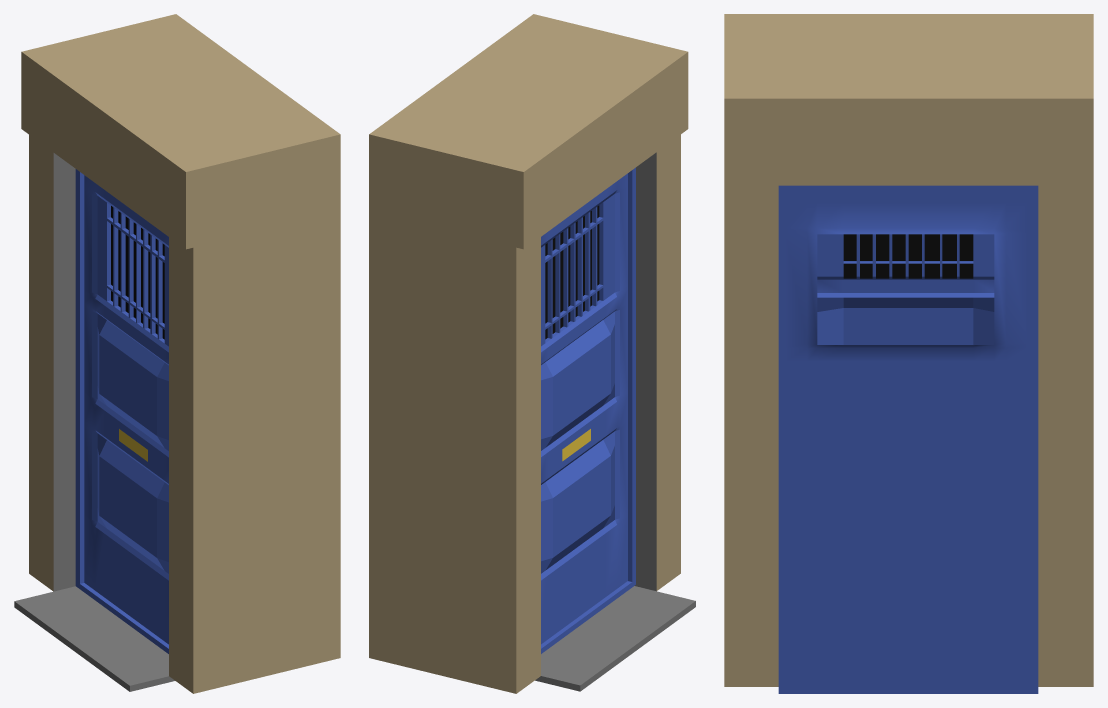
The model's file is SingleDoor2.fbx.
3 views of the same model, side by side, from view 1: azimuth 30°, elevation 25°; view 2: azimuth 150°, elevation 25°; view 3: azimuth 270°, elevation 25° (orthographic). The views are drawn at different scales.
Parts seen in each view (by area): view 1: SingleDoor002; view 2: SingleDoor002; view 3: SingleDoor002.
Boxes of the visible parts, x1,y1,x2,y2 form: SingleDoor002: (14, 14, 340, 693); SingleDoor002: (369, 14, 695, 693); SingleDoor002: (724, 14, 1093, 693).
Size of the model in its own units: 29.72 by 79.67 by 44.83.
